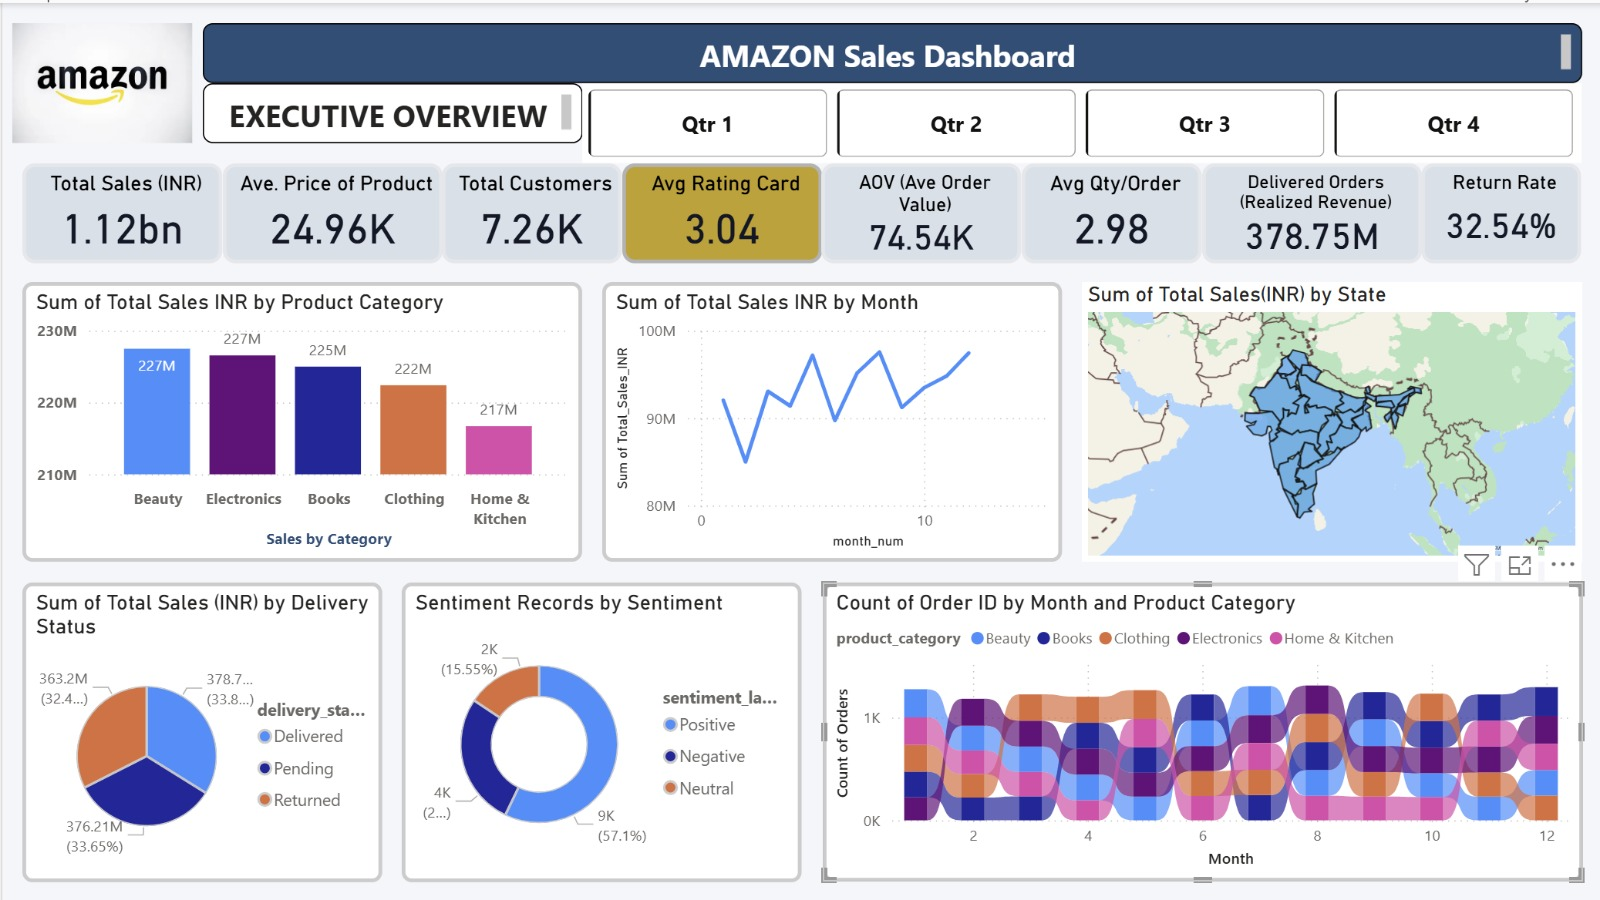

This screenshot's page, from the dashboard's own definition file:
{"tool":"powerbi","page":{"name":"Executive Overview","canvas":[1280,720],"ordinal":0},"visuals":[{"type":"card","title":"Total Sales (INR)","fields":{"Values":["Sum(dm_fact_sales.total_sales_inr)"]},"box":[16,128,160,80],"z":0},{"type":"textbox","box":[160,16,1104,48],"z":1000},{"type":"textbox","box":[160,64,304,48],"z":2000},{"type":"card","title":"Ave. Price of Product","fields":{"Values":["Avg(dm_fact_sales.unit_price_inr)"]},"box":[176,128,176,80],"z":3000},{"type":"card","title":"Total Customers","fields":{"Values":["Count(dm_fact_sales.customer_id_nk)"]},"box":[352,128,144,80],"z":4000},{"type":"card","title":"Avg Rating Card","fields":{"Values":["Avg(dm_fact_sales.review_rating)"]},"box":[496,128,160,80],"z":5000},{"type":"card","title":"AOV (Ave Order Value)","fields":{"Values":["Avg(dm_fact_sales.total_sales_inr)"]},"box":[656,128,160,80],"z":6000},{"type":"card","title":"Avg Qty/Order","fields":{"Values":["Avg(dm_fact_sales.quantity)"]},"box":[816,128,144,80],"z":7000},{"type":"clusteredColumnChart","title":"Sum of Total Sales INR by Product Category","fields":{"Y":["Sum(dm_fact_sales.total_sales_inr)"],"Category":["dim_product.product_category"]},"box":[16,224,448,224],"z":8000},{"type":"card","title":"Delivered Orders (Realized Revenue)","fields":{"Values":["dim_customer.Delivered Sales"]},"box":[960,128,176,80],"z":9000},{"type":"card","title":"Return Rate","fields":{"Values":["dim_customer.Return Rate"]},"box":[1136,128,128,80],"z":10000},{"type":"pieChart","title":"Sum of Total Sales (INR) by Delivery Status","fields":{"Y":["Sum(dm_fact_sales.total_sales_inr)"],"Category":["dim_delivery.delivery_status"]},"box":[16,464,288,240],"z":11000},{"type":"lineChart","title":"Sum of Total Sales INR by Month","fields":{"Y":["Sum(dwh_amazon_sales_records_10k.Total_Sales_INR)"],"Category":["dim_date.month_num"]},"box":[480,224,368,224],"z":12000},{"type":"ribbonChart","title":"Count of Order ID by Month and Product Category","fields":{"Y":["CountNonNull(dm_fact_sales.order_id)"],"Category":["dim_date.month_num"],"Series":["dim_product.product_category"]},"box":[656,464,608,240],"z":13000},{"type":"image","box":[0,16,160,96],"z":14000},{"type":"advancedSlicerVisual","fields":{"Values":["dim_date.full_date.Variation.Date Hierarchy.Quarter"]},"box":[464,64,800,64],"z":15000},{"type":"donutChart","title":"Sentiment Records by Sentiment","fields":{"Y":["dm_review_sentiment.Sentiment Records"],"Category":["dm_review_sentiment.sentiment_label"]},"box":[320,464,320,240],"z":16000},{"type":"azureMap","title":"Sum of Total Sales(INR) by State","fields":{"Category":["dim_region.state"],"Y":["Min(dim_region.state)"]},"box":[864,224,400,224],"z":17000}]}

Visuals, with their boxes in screenshot pixels (x1, y1, x2, y2), scaled from the page's 1280x720 canvas onto the 1600x900 screenshot:
"Total Sales (INR)" card: (20,160,220,260)
textbox: (200,20,1580,80)
textbox: (200,80,580,140)
"Ave. Price of Product" card: (220,160,440,260)
"Total Customers" card: (440,160,620,260)
"Avg Rating Card" card: (620,160,820,260)
"AOV (Ave Order Value)" card: (820,160,1020,260)
"Avg Qty/Order" card: (1020,160,1200,260)
"Sum of Total Sales INR by Product Category" clusteredColumnChart: (20,280,580,560)
"Delivered Orders (Realized Revenue)" card: (1200,160,1420,260)
"Return Rate" card: (1420,160,1580,260)
"Sum of Total Sales (INR) by Delivery Status" pieChart: (20,580,380,880)
"Sum of Total Sales INR by Month" lineChart: (600,280,1060,560)
"Count of Order ID by Month and Product Category" ribbonChart: (820,580,1580,880)
image: (0,20,200,140)
advancedSlicerVisual - dim_date.full_date.Variation.Date Hierarchy.Quarter: (580,80,1580,160)
"Sentiment Records by Sentiment" donutChart: (400,580,800,880)
"Sum of Total Sales(INR) by State" azureMap: (1080,280,1580,560)
